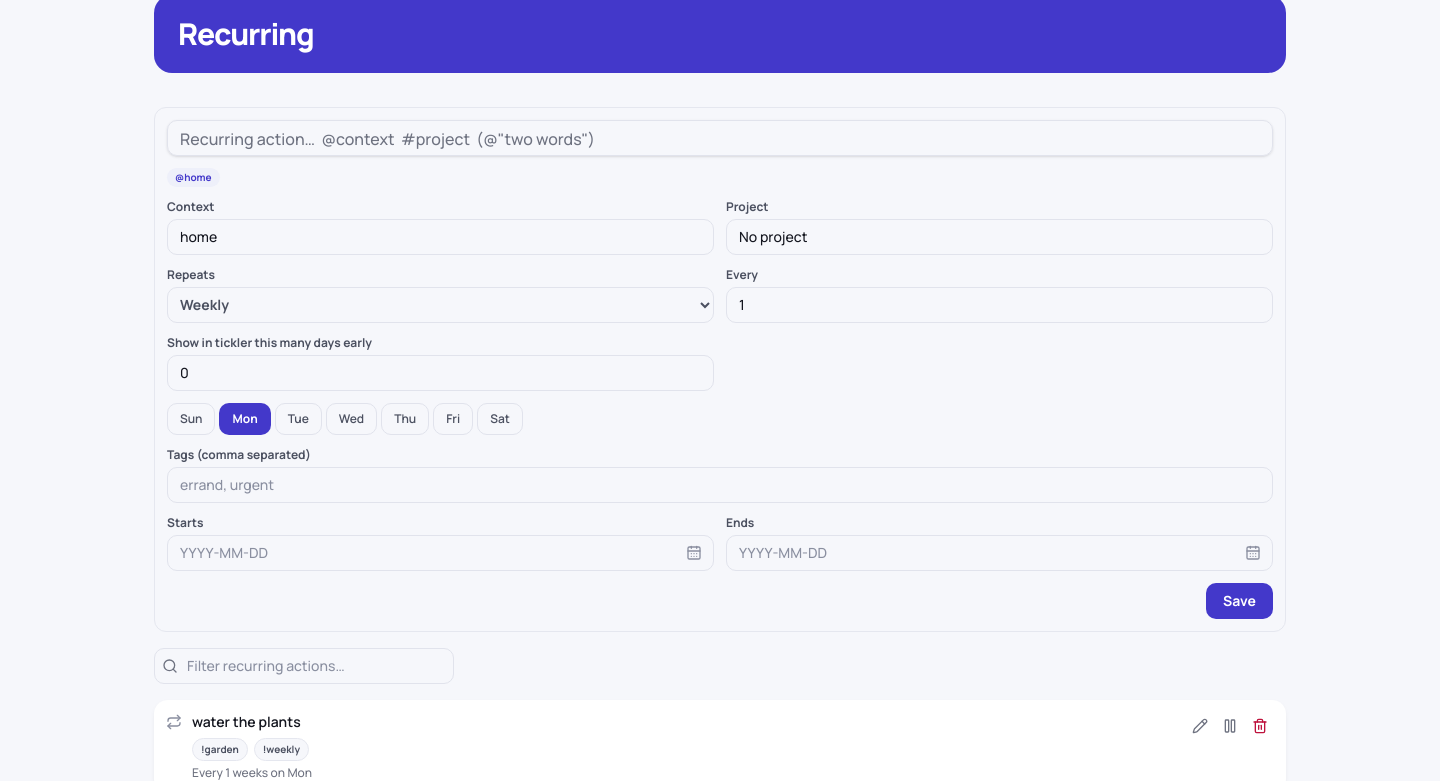
tags on a pattern › shows the pattern's own tags in the list and in the editor
Expected: the text "!garden" is shown, [192, 738, 248, 761]
Expected: the text "water the plants" is shown, [192, 712, 301, 731]
Click the button named "Edit this recurrence" at coordinates (1200, 726), box [1186, 712, 1214, 740]
(page scrolled)
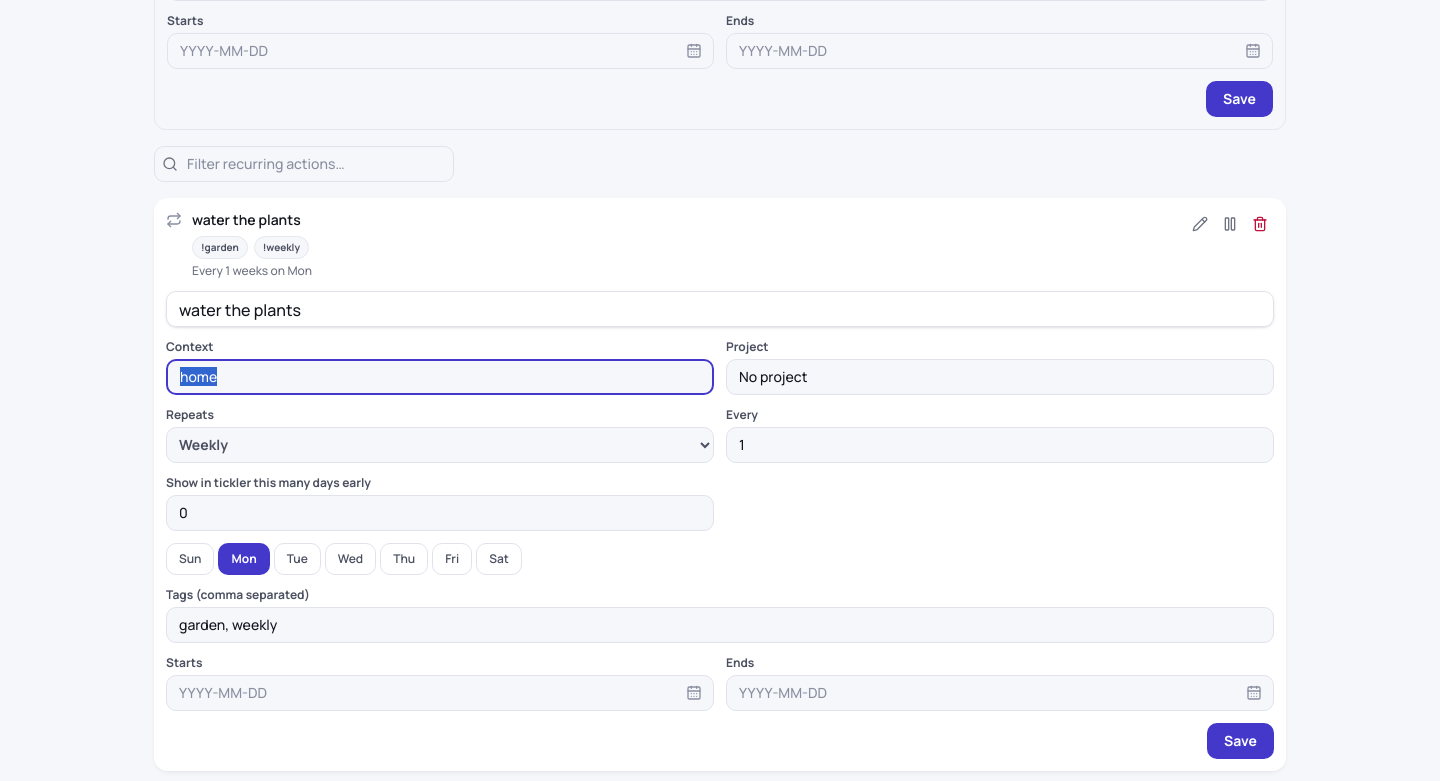
Now the 2nd field labelled "Tags (comma separated)" holds "garden, weekly", box [166, 607, 1274, 643]
